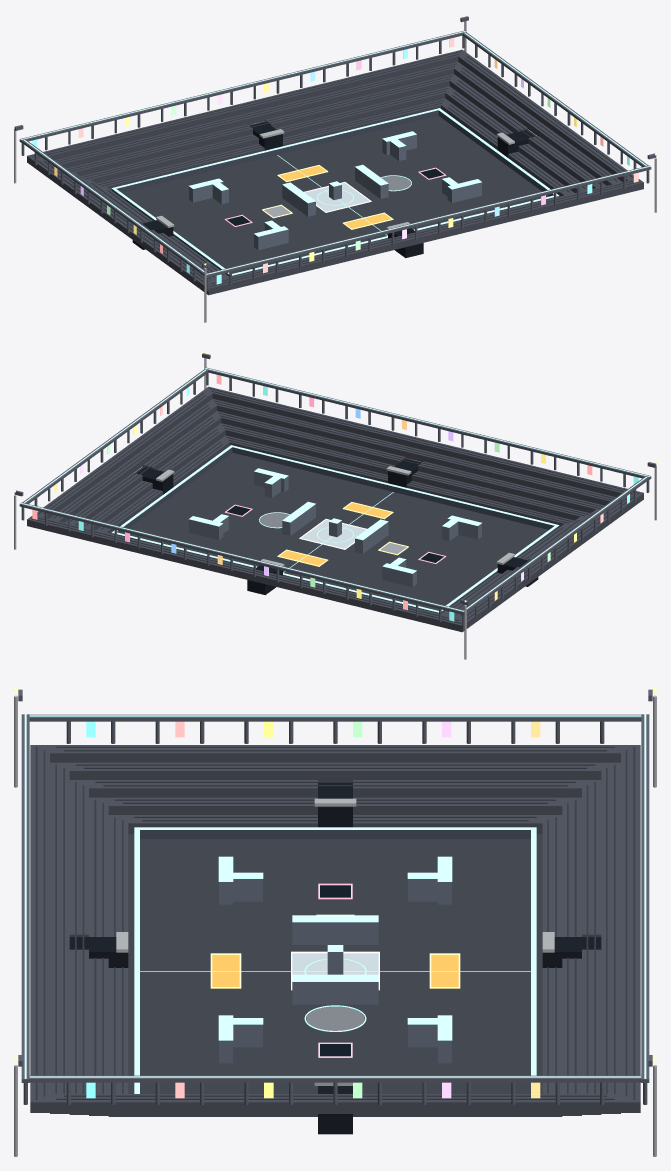
The model's file is arena_arena.glb.
The picture shows the model from 3 angles, top to bottom: view 1: azimuth 30°, elevation 25°; view 2: azimuth 150°, elevation 25°; view 3: azimuth 270°, elevation 25°; orthographic projection. The views are drawn at different scales.
Parts seen in each view (by area): view 1: Stands, Floor, Seats, Lintel, Walls, Kerbs, Colonnade, KerbGlow, Gates, Banners, WallTrim, Hazard_ice (+2 smaller); view 2: Stands, Floor, Seats, Lintel, Walls, Kerbs, Colonnade, KerbGlow, Gates, Banners, WallTrim, Hazard_ice (+2 smaller); view 3: Stands, Floor, Seats, Lintel, Walls, Gates, KerbGlow, WallTrim, Kerbs, Colonnade, Banners, Hazard_lava (+4 smaller).
Part boxes in pixels (<box>): Stands: <box>27,49,643,295</box>; Floor: <box>122,115,548,273</box>; Seats: <box>32,51,638,286</box>; Lintel: <box>19,30,651,277</box>; Walls: <box>189,134,481,250</box>; Kerbs: <box>111,110,559,276</box>; Colonnade: <box>21,35,649,290</box>; KerbGlow: <box>111,108,559,275</box>; Gates: <box>132,122,536,258</box>; Banners: <box>32,37,638,284</box>; WallTrim: <box>189,131,481,236</box>; Hazard_ice: <box>305,183,369,211</box>; Stands: <box>27,386,643,632</box>; Floor: <box>122,452,548,610</box>; Seats: <box>32,388,638,623</box>; Lintel: <box>19,367,651,614</box>; Walls: <box>189,471,481,587</box>; Kerbs: <box>111,447,559,613</box>; Colonnade: <box>21,372,649,627</box>; KerbGlow: <box>111,445,559,612</box>; Gates: <box>134,459,538,595</box>; Banners: <box>32,374,638,621</box>; WallTrim: <box>189,468,481,573</box>; Hazard_ice: <box>301,520,365,548</box>; Stands: <box>30,745,640,1116</box>; Floor: <box>128,834,542,1093</box>; Seats: <box>35,746,635,1099</box>; Lintel: <box>21,713,649,1082</box>; Walls: <box>219,879,451,1063</box>; Gates: <box>69,783,601,1134</box>; KerbGlow: <box>134,827,536,1093</box>; WallTrim: <box>218,856,452,1040</box>; Kerbs: <box>140,830,530,839</box>; Colonnade: <box>23,721,647,1104</box>; Banners: <box>86,721,540,1098</box>; Hazard_lava: <box>212,955,458,986</box>.
Size of the model in its own units: 225 by 28.35 by 164.
